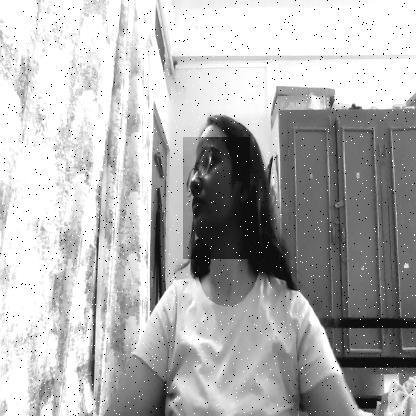Distracted: (183, 137, 250, 259)
